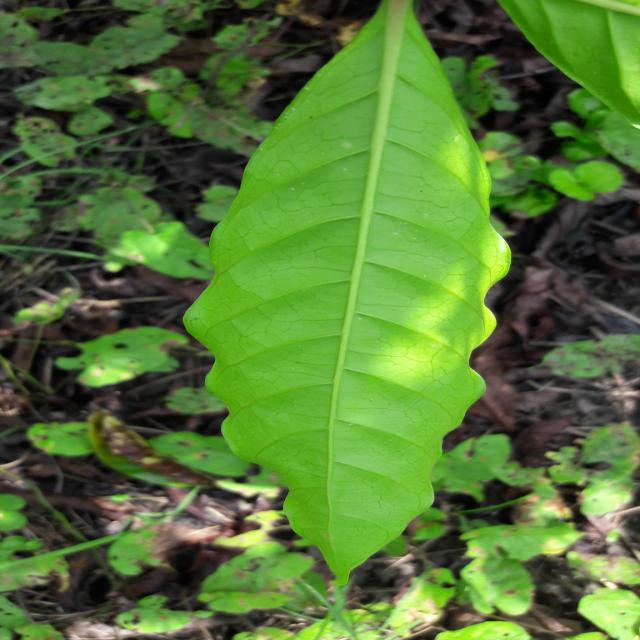Sanas: (182, 0, 512, 586)
